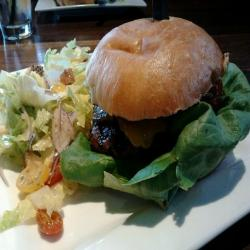burger: (88, 13, 225, 206)
salad: (1, 45, 95, 184)
